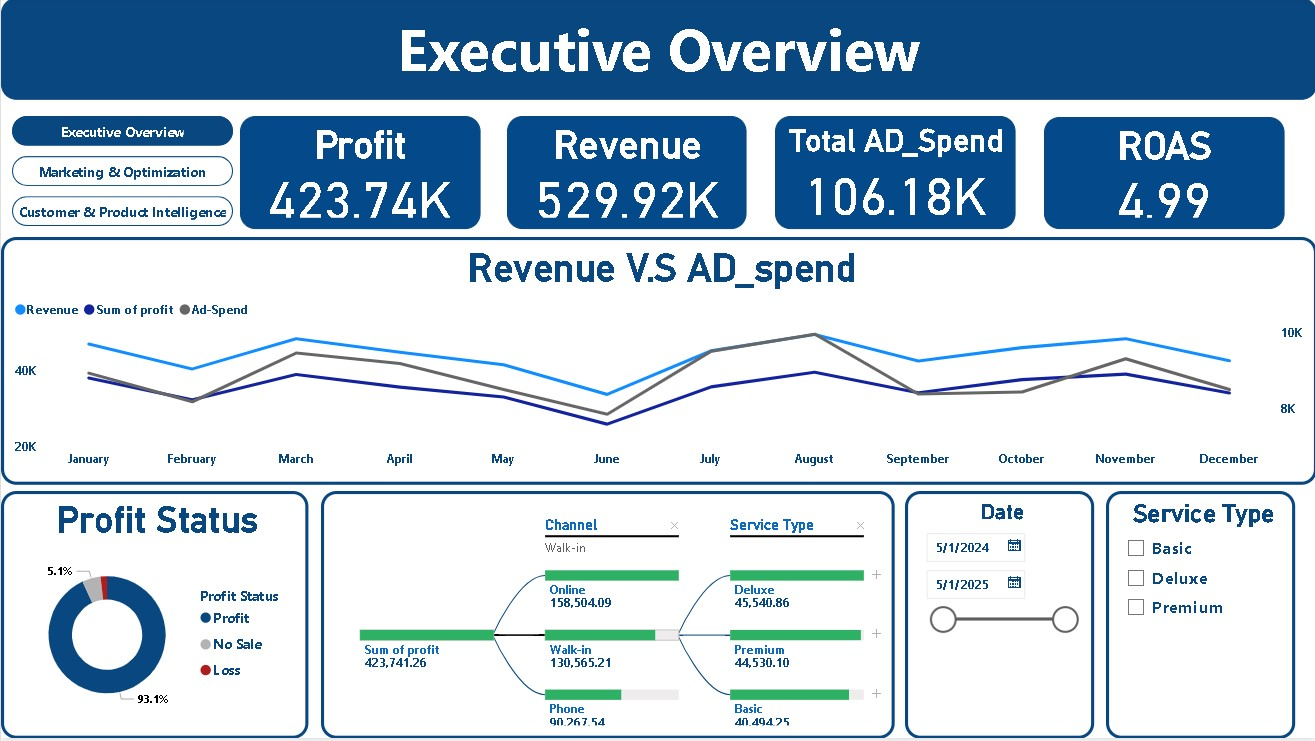

This screenshot's page, from the dashboard's own definition file:
{"tool":"powerbi","page":{"name":"Executive Overview","canvas":[1280,720],"ordinal":0},"visuals":[{"type":"textbox","box":[0,0,1280,99.2],"z":0},{"type":"card","title":"Profit","fields":{"Values":["Sum(Data___Sheet1.profit)"]},"box":[232.7,115,233.6,109.8],"z":1000},{"type":"card","title":"Revenue","fields":{"Values":["Sum(Data___Sheet1.RRevenue)"]},"box":[492.6,115,232.7,109.8],"z":2000},{"type":"card","title":"ROAS","fields":{"Values":["Data___Sheet1.Overall_ROAS"]},"box":[1014.1,115.9,233.6,108.9],"z":3000},{"type":"card","title":"Total AD_Spend","fields":{"Values":["Sum(Data___Sheet1.Ad Spend)"]},"box":[752.5,115,233.6,109.8],"z":4000},{"type":"pageNavigator","box":[10.5,115,215.1,109.8],"z":5000},{"type":"lineChart","title":"Revenue V.S AD_spend","fields":{"Category":["Data___Sheet1.Date.Variation.Date Hierarchy.Month"],"Y":["Data___Sheet1.Revenue","Sum(Data___Sheet1.profit)"],"Y2":["Data___Sheet1.Ad-Spend"]},"box":[0,232.7,1280.2,240.6],"z":6000},{"type":"donutChart","title":"Profit Status","fields":{"Y":["CountNonNull(Data___Sheet1.Date)"],"Category":["Data___Sheet1.Profit Status"]},"box":[0,479.4,299.4,240.6],"z":7000},{"type":"decompositionTreeVisual","fields":{"Analyze":["Sum(Data___Sheet1.profit)"],"ExplainBy":["Data___Sheet1.Channel","Data___Sheet1.Service Type","Data___Sheet1.Customer Type","Data___Sheet1.Golden Slot"]},"box":[310.8,479.4,558.4,240.6],"z":8000},{"type":"slicer","title":"Date","fields":{"Values":["Data___Sheet1.Date"]},"box":[878.9,479.4,184.4,240.6],"z":9000},{"type":"slicer","title":"Service Type","fields":{"Values":["Data___Sheet1.Service Type"]},"box":[1074.7,479.4,184.4,240.6],"z":10000}]}

Visuals, with their boxes in screenshot pixels (x1, y1, x2, y2), scaled from the page's 1280x720 canvas onto the 1315x741 screenshot:
textbox: (0, 0, 1314, 102)
"Profit" card: (239, 118, 479, 231)
"Revenue" card: (506, 118, 745, 231)
"ROAS" card: (1042, 119, 1282, 231)
"Total AD_Spend" card: (773, 118, 1013, 231)
pageNavigator: (11, 118, 232, 231)
"Revenue V.S AD_spend" lineChart: (0, 239, 1314, 487)
"Profit Status" donutChart: (0, 493, 308, 740)
decompositionTreeVisual - Sum(Data___Sheet1.profit) x Data___Sheet1.Channel: (319, 493, 893, 740)
"Date" slicer: (903, 493, 1092, 740)
"Service Type" slicer: (1104, 493, 1294, 740)
